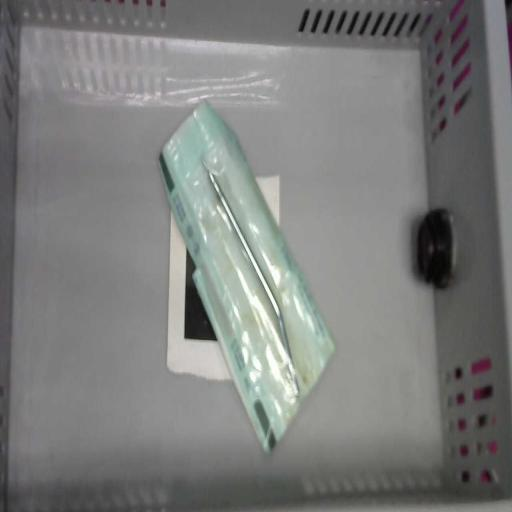triple_syringe: (158, 100, 335, 454)
